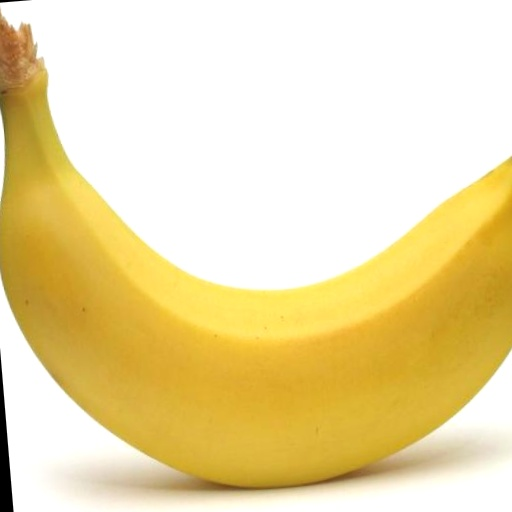fruit: (0, 5, 512, 487)
